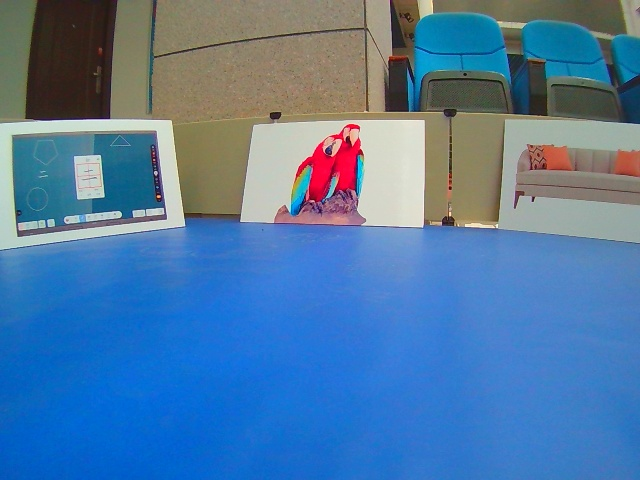pet: (239, 120, 427, 231)
sofa: (500, 118, 640, 247)
tv: (2, 119, 187, 252)
